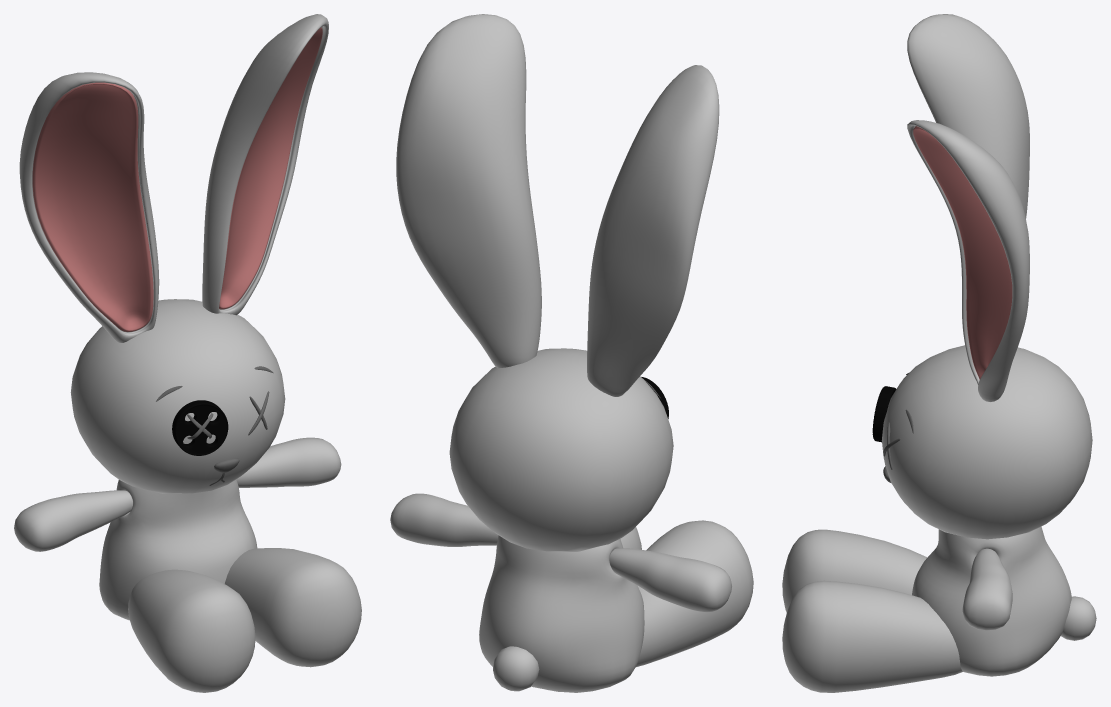
Rendered from Rabbit.fbx.
3 renders of one model, left to right at view 1: azimuth 30°, elevation 25°; view 2: azimuth 150°, elevation 25°; view 3: azimuth 270°, elevation 25°, orthographic. The views are drawn at different scales.
Visible parts, largest first — view 1: Conejo peluche; view 2: Conejo peluche; view 3: Conejo peluche.
Boxes of the visible parts, x1,y1,x2,y2 form: Conejo peluche: (14,14,361,692); Conejo peluche: (390,14,753,692); Conejo peluche: (782,14,1096,692).
Size of the model in its own units: 729 by 1300 by 626.
